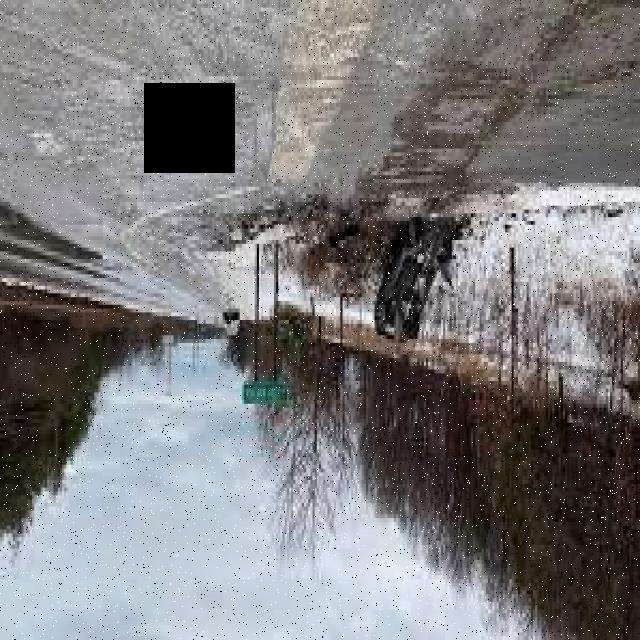severe: (369, 218, 457, 352)
